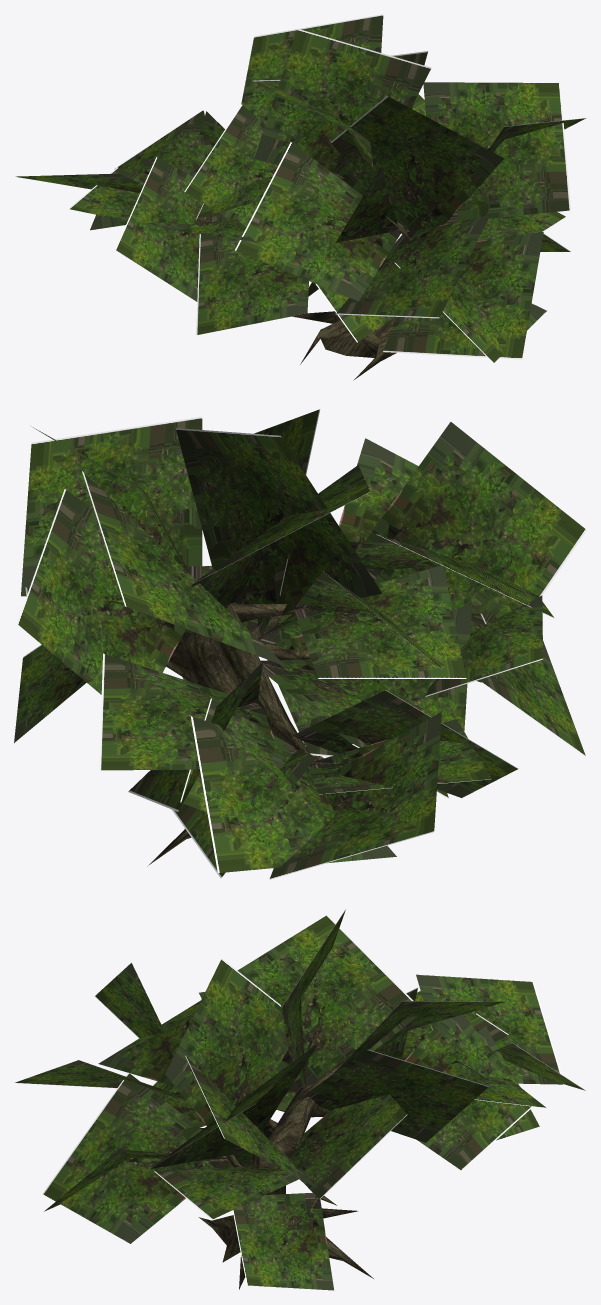
Rendered from Utility_Tree05_LOD2.FBX.
The picture shows the model from 3 angles, top to bottom: view 1: azimuth 30°, elevation 25°; view 2: azimuth 150°, elevation 25°; view 3: azimuth 270°, elevation 25°; orthographic projection. The views are drawn at different scales.
Visible parts, largest first — view 1: cmc_shu05_02_LOD2, cmc_shu05_01_LOD2; view 2: cmc_shu05_02_LOD2, cmc_shu05_01_LOD2; view 3: cmc_shu05_02_LOD2, cmc_shu05_01_LOD2.
Part boxes in pixels (left/top/right/bottom): cmc_shu05_02_LOD2: left=15, top=14, right=586, bottom=363; cmc_shu05_01_LOD2: left=267, top=171, right=407, bottom=380; cmc_shu05_02_LOD2: left=14, top=409, right=586, bottom=879; cmc_shu05_01_LOD2: left=61, top=602, right=384, bottom=866; cmc_shu05_02_LOD2: left=14, top=909, right=585, bottom=1290; cmc_shu05_01_LOD2: left=162, top=1039, right=373, bottom=1289.
Size of the model in its own units: 2225 by 1546 by 2433.
2 materials, 2 textured.
